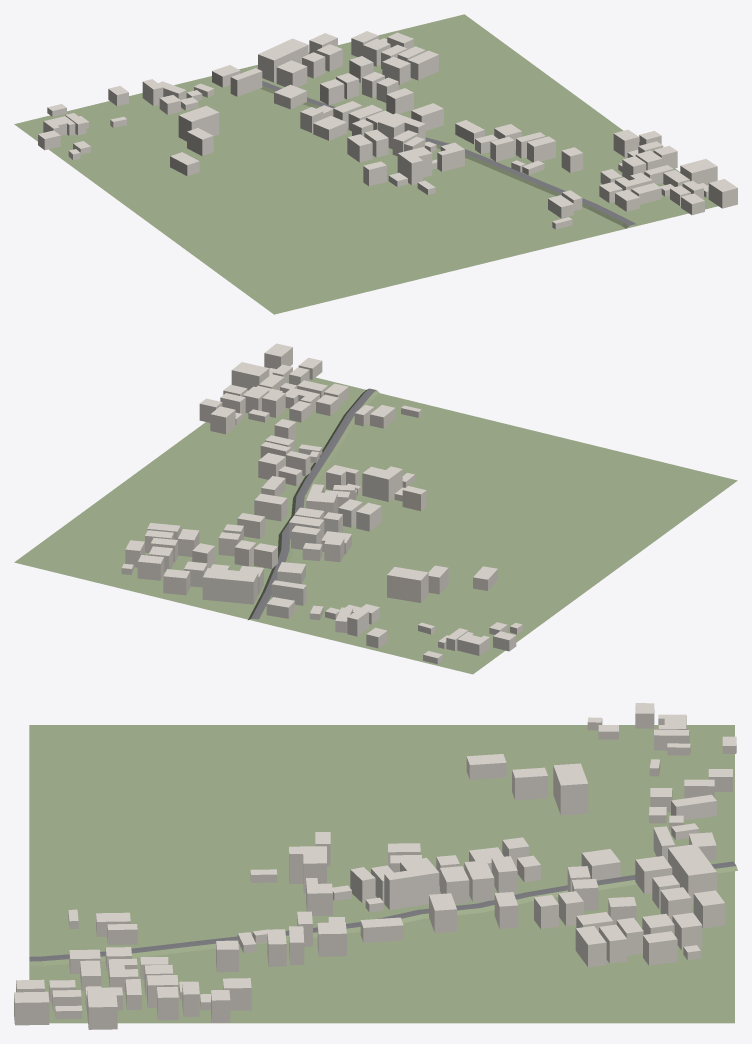
The model's file is dhamrai_chunk_x1_z0.glb.
3 views of the same model, one above another, from view 1: azimuth 30°, elevation 25°; view 2: azimuth 150°, elevation 25°; view 3: azimuth 270°, elevation 25° (orthographic). The views are drawn at different scales.
Parts seen in each view (by area): view 1: terrain, buildings, roads, embankments; view 2: terrain, buildings, roads, embankments; view 3: terrain, buildings, roads, embankments.
Part boxes in pixels (left/top/right/bottom): terrain: left=14, top=14, right=718, bottom=314; buildings: left=38, top=31, right=737, bottom=229; roads: left=241, top=72, right=635, bottom=225; embankments: left=260, top=85, right=636, bottom=228; terrain: left=14, top=377, right=737, bottom=674; buildings: left=121, top=343, right=522, bottom=664; roads: left=251, top=388, right=376, bottom=619; embankments: left=248, top=389, right=379, bottom=621; terrain: left=29, top=725, right=734, bottom=1023; buildings: left=14, top=703, right=736, bottom=1029; roads: left=29, top=861, right=736, bottom=961; embankments: left=30, top=866, right=737, bottom=966.
Bounding box in the file's own units: 268 × 13.23 × 263.
